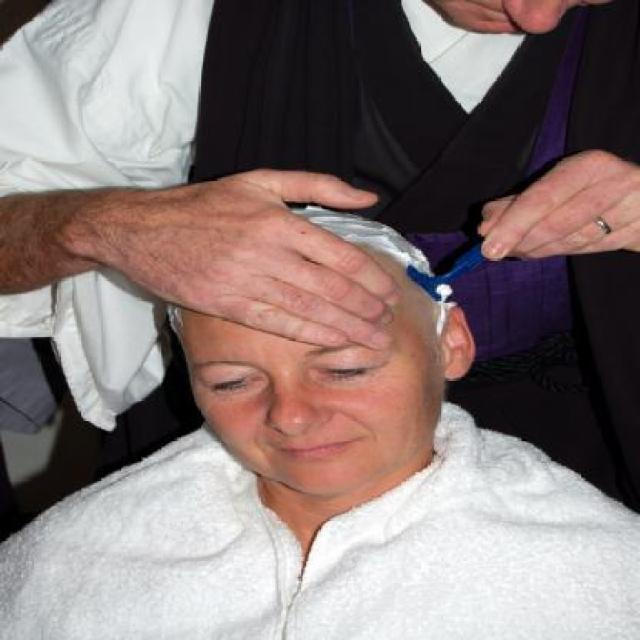Person: (0, 201, 638, 638), (0, 0, 638, 352)
